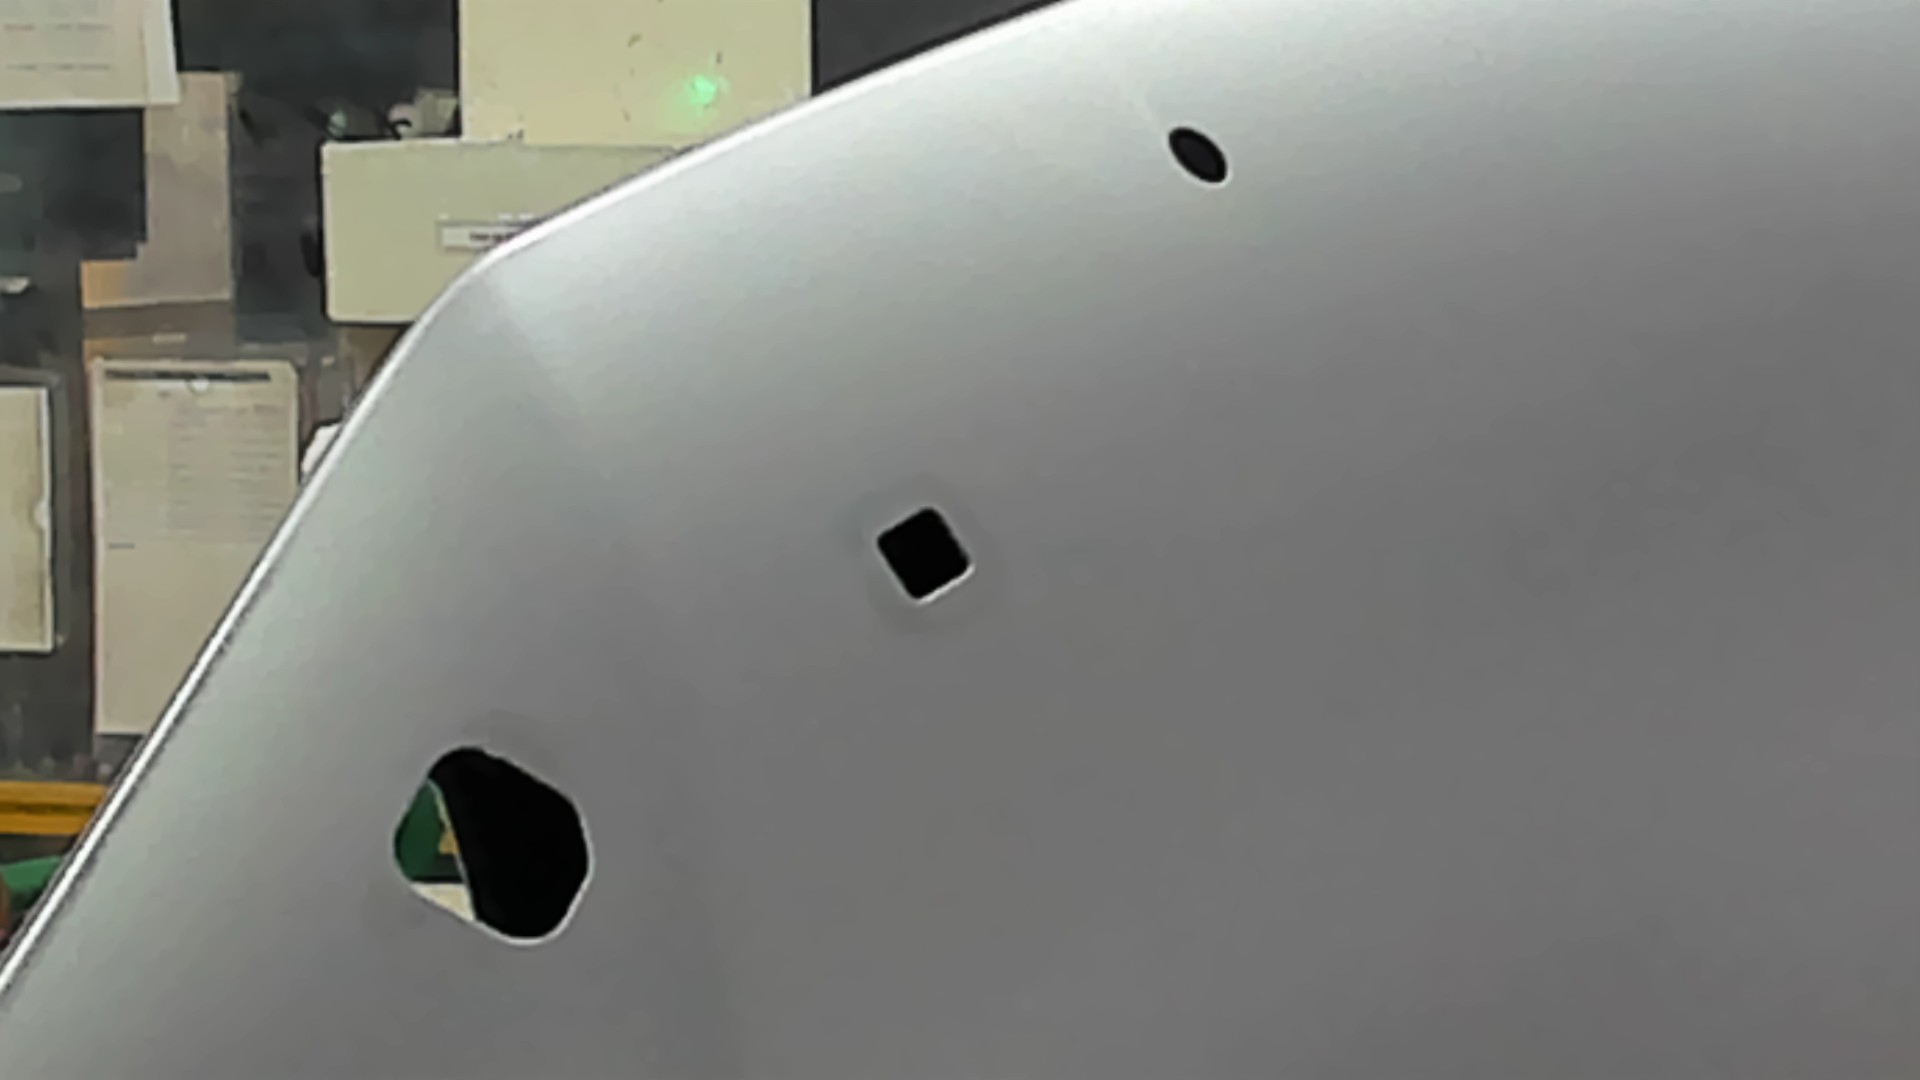chico: (1147, 109, 1245, 208)
grande: (386, 724, 611, 961)
mediano: (860, 491, 986, 628)
